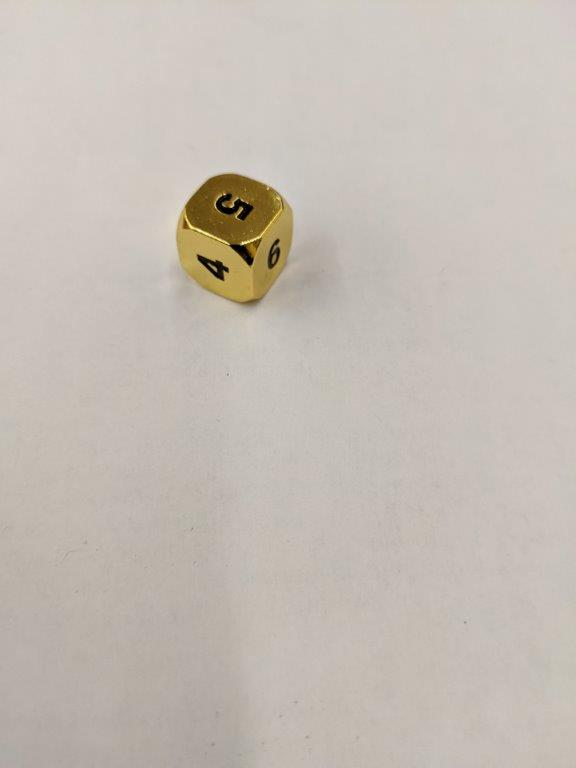d6-5: (176, 171, 294, 303)
